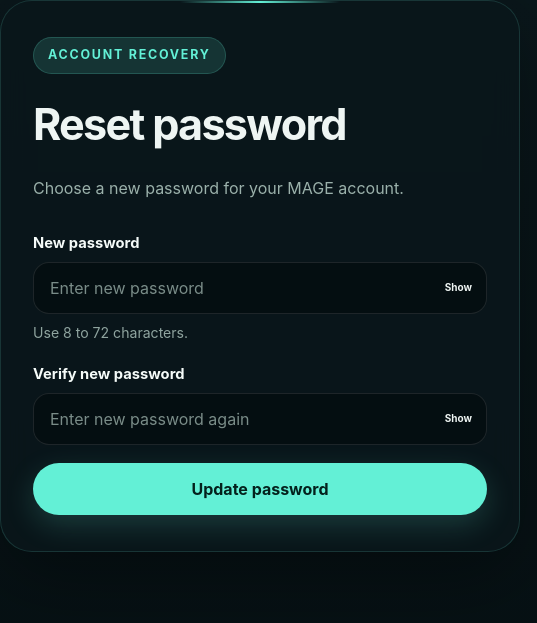
ResetPasswordPage › surfaces an invalid or expired token response
In the password field labelled "New password": point(260, 288) [33,262,487,314], type "new-password"
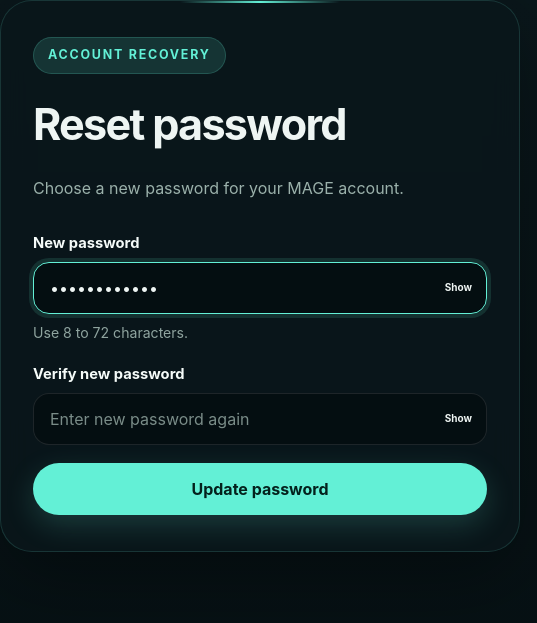
In the password field labelled "Verify new password": point(260, 419) [33,393,487,445], type "new-password"
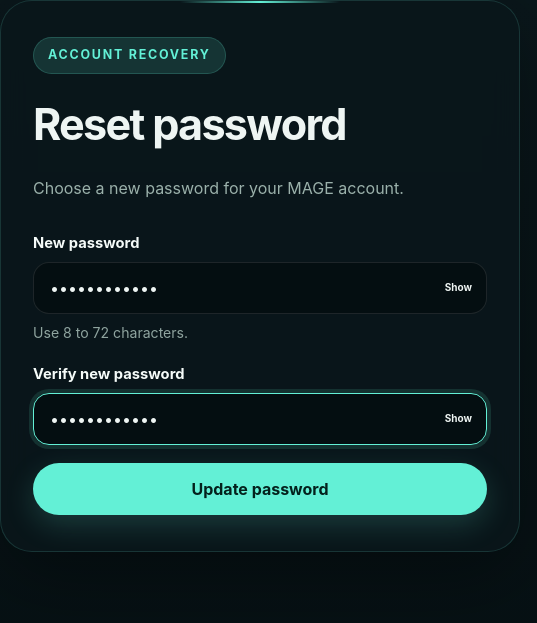
Click the button "Update password": point(260, 489) [33,463,487,515]
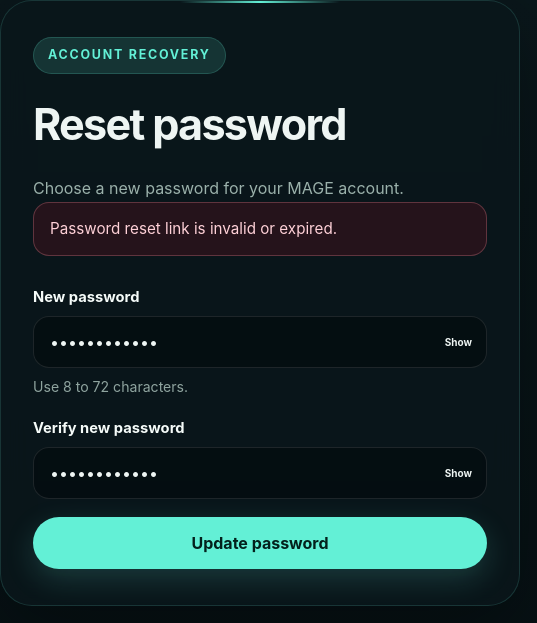
expect the text "Password reset link is invalid or expired." is shown: met, box [33,202,487,256]
